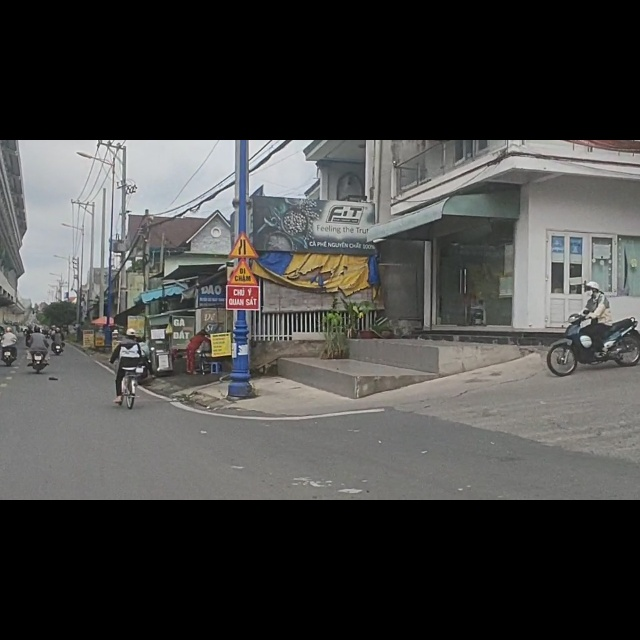Đi chậm: (226, 258, 259, 286)
Đường bị hẹp bên trái: (229, 232, 259, 258)
